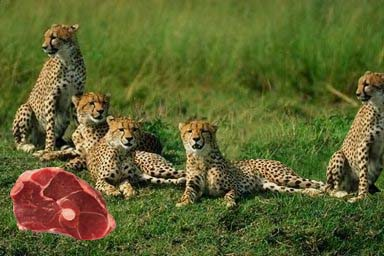copymove: (330, 73, 384, 202)
removal: (236, 127, 273, 160)
spliced: (7, 167, 117, 241)
